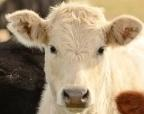muzzles: (58, 85, 91, 112)
